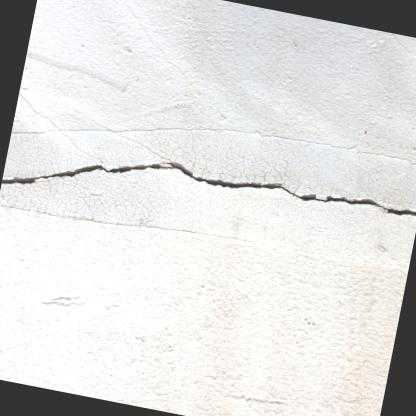crack: (1, 161, 416, 215)
